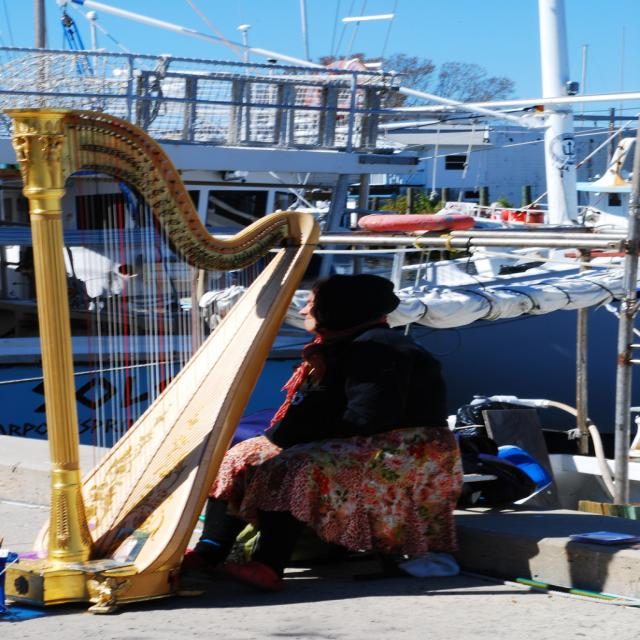harp: (0, 99, 330, 613)
